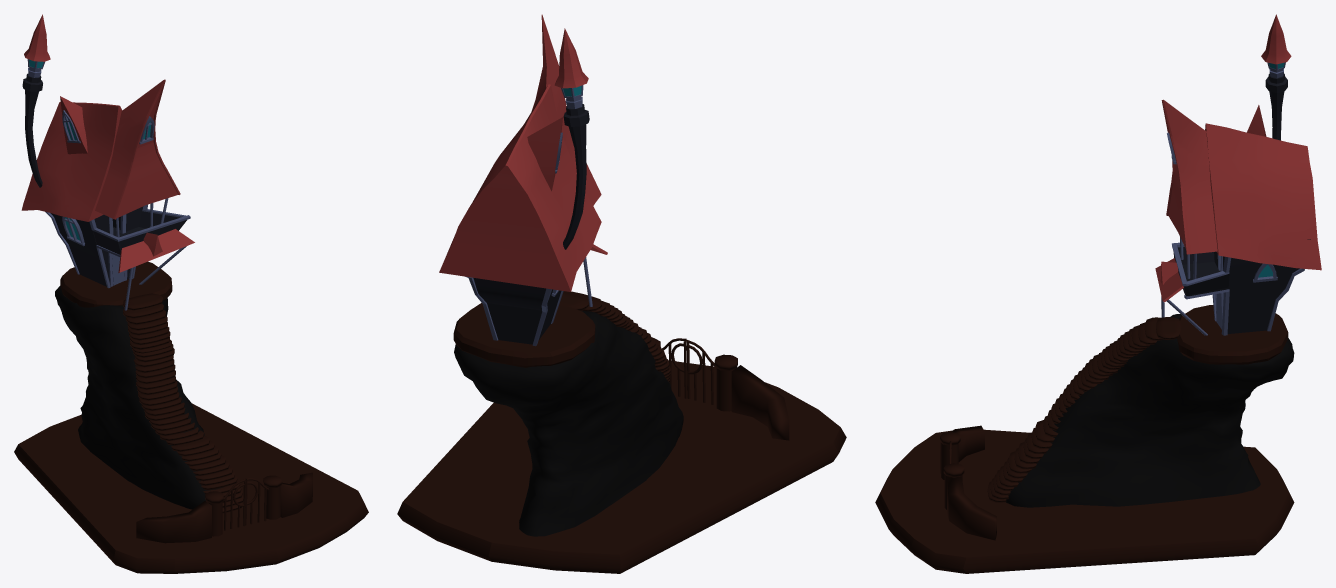
Rendered from jacks-house.dae.
3 renders of one model, left to right at view 1: azimuth 30°, elevation 25°; view 2: azimuth 150°, elevation 25°; view 3: azimuth 270°, elevation 25°, orthographic. The views are drawn at different scales.
Visible parts, largest first — view 1: ground_low, roofs_low, Rocks_low, stair_low, wood2_low, groundupHill_low, house_low, balcany_low, chimney_low; view 2: ground_low, Rocks_low, roofs_low, groundupHill_low, house_low, stair_low, chimney_low, wood2_low; view 3: ground_low, Rocks_low, roofs_low, stair_low, groundupHill_low, house_low, wood2_low, balcany_low, chimney_low.
Boxes of the visible parts, x1,y1,x2,y2 form: ground_low: [14, 403, 368, 573]; roofs_low: [21, 14, 194, 272]; Rocks_low: [55, 286, 223, 509]; stair_low: [123, 293, 243, 513]; wood2_low: [27, 59, 190, 310]; groundupHill_low: [60, 261, 172, 307]; house_low: [50, 206, 143, 286]; balcany_low: [93, 210, 186, 254]; chimney_low: [22, 73, 42, 187]; ground_low: [397, 338, 846, 573]; Rocks_low: [454, 310, 683, 536]; roofs_low: [439, 14, 607, 291]; groundupHill_low: [453, 303, 595, 367]; house_low: [473, 278, 561, 344]; stair_low: [559, 291, 683, 421]; chimney_low: [563, 104, 589, 249]; wood2_low: [465, 85, 592, 346]; ground_low: [875, 425, 1294, 573]; Rocks_low: [1006, 314, 1294, 507]; roofs_low: [1155, 14, 1321, 302]; stair_low: [987, 317, 1181, 502]; groundupHill_low: [1177, 305, 1288, 364]; house_low: [1214, 239, 1310, 333]; wood2_low: [1161, 62, 1304, 335]; balcany_low: [1173, 247, 1229, 296]; chimney_low: [1265, 73, 1287, 140].
Size of the model in its own units: 5.26 by 8.67 by 7.5.
